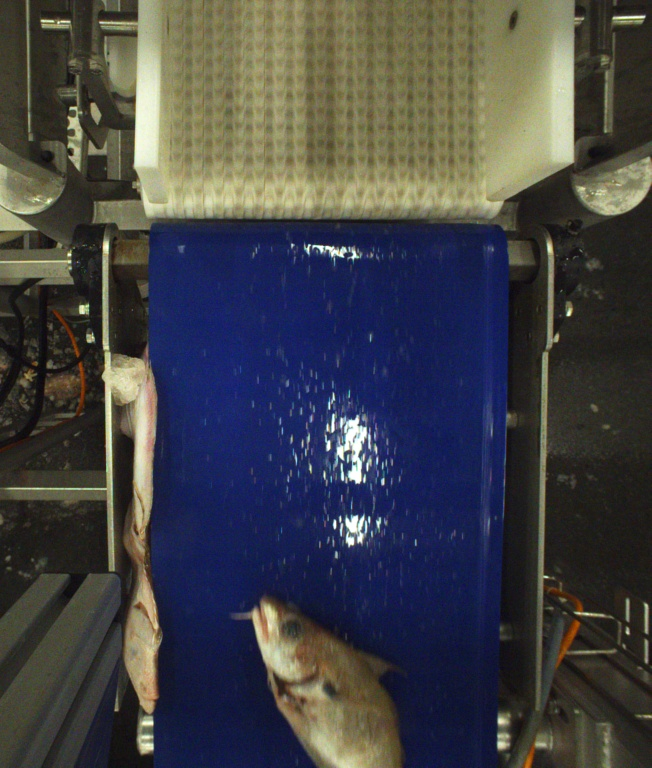BIB: (227, 597, 409, 768)
